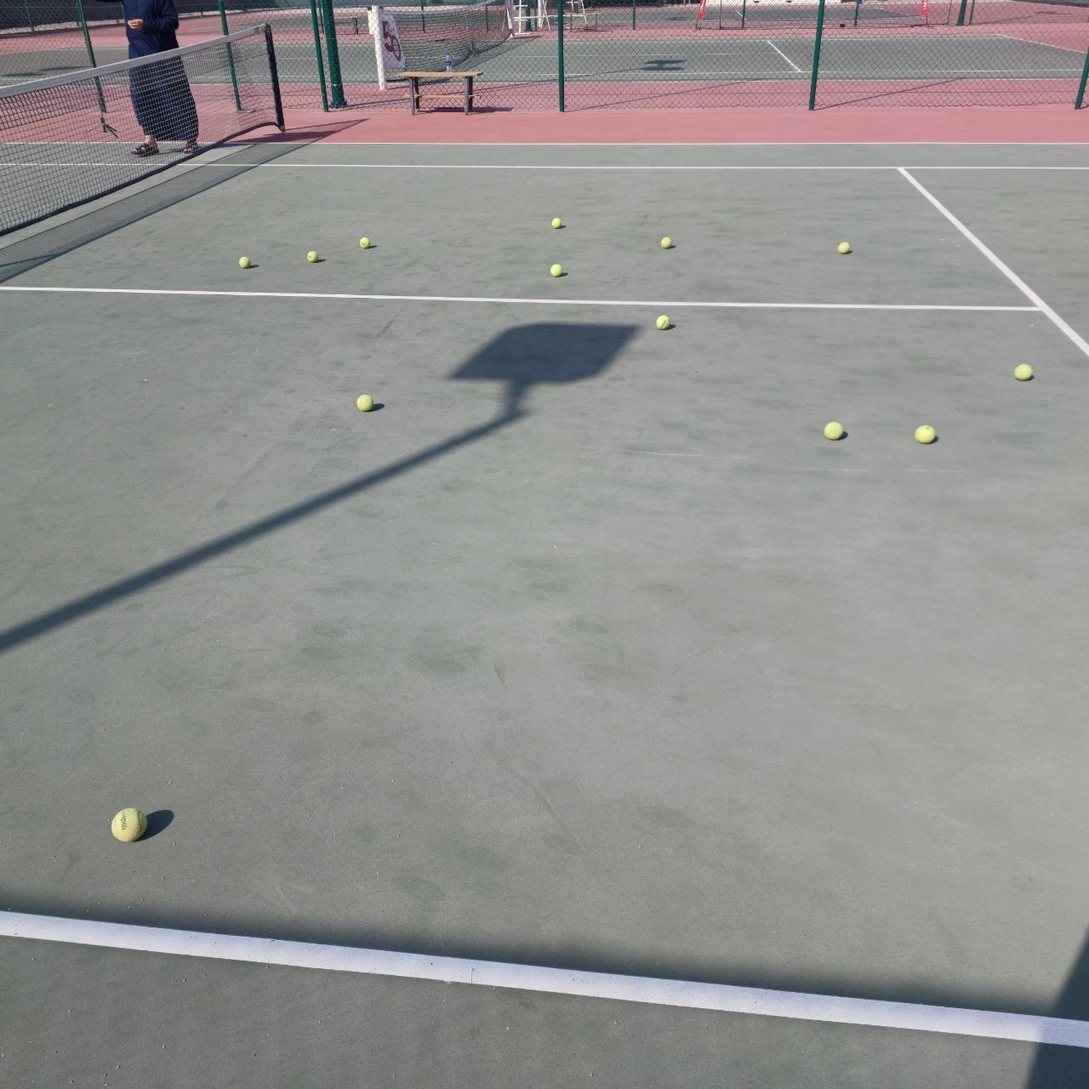tennis-ball: (108, 805, 146, 842), (822, 419, 845, 440), (914, 422, 936, 443), (1012, 361, 1033, 380), (354, 391, 373, 411), (653, 312, 670, 329), (835, 239, 850, 254), (548, 261, 563, 276), (659, 234, 673, 248), (550, 215, 563, 228), (239, 256, 250, 269), (307, 251, 318, 263), (360, 236, 370, 249)
